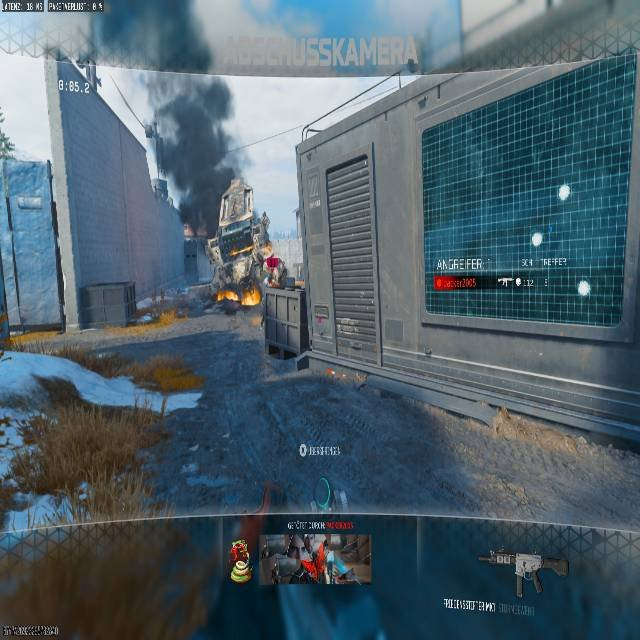head: (218, 179, 253, 222)
player: (205, 178, 296, 302)
